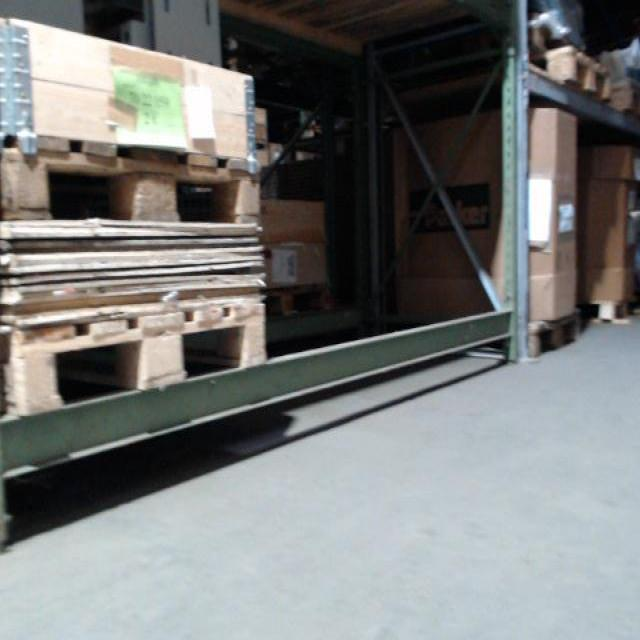pallet: (6, 297, 266, 416), (0, 131, 263, 232), (528, 40, 611, 106), (259, 279, 332, 324), (526, 307, 581, 360), (585, 298, 636, 322)
